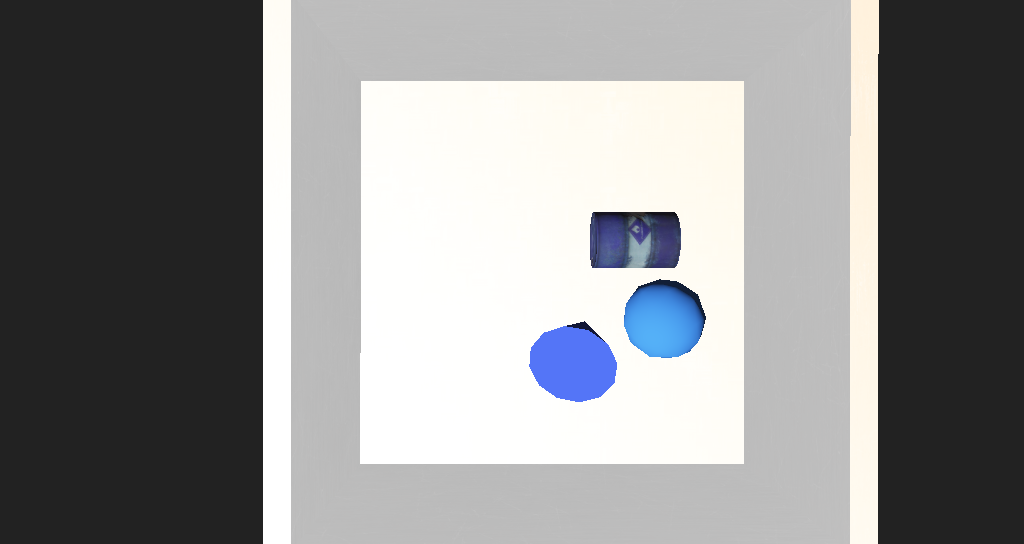cone: (532, 236, 600, 270)
cylinder: (478, 277, 573, 344)
sphere: (563, 274, 623, 317)
